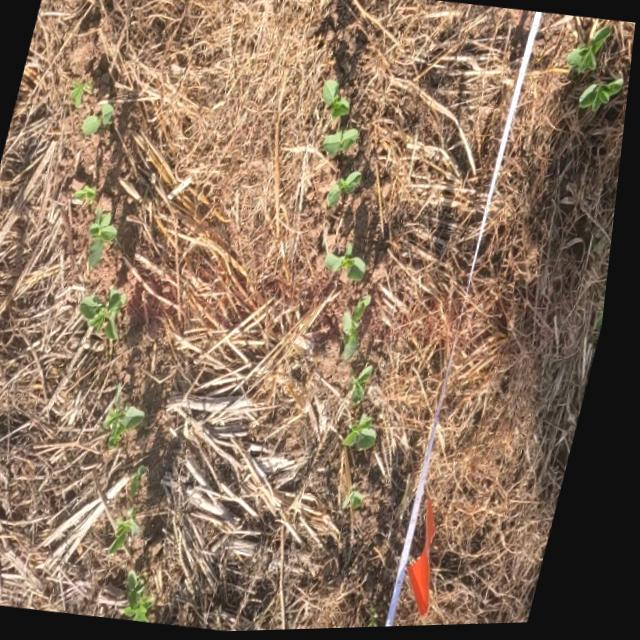soy_plant: (114, 386, 155, 449), (87, 290, 134, 341), (569, 31, 612, 76), (349, 298, 378, 362), (94, 209, 123, 270), (136, 573, 167, 623), (332, 247, 373, 284), (352, 415, 387, 453), (330, 173, 366, 209), (583, 83, 624, 114), (123, 511, 151, 553), (326, 126, 360, 160), (324, 82, 352, 123), (85, 102, 117, 136), (357, 368, 379, 410), (353, 488, 375, 513), (72, 83, 94, 107), (141, 467, 157, 499), (78, 186, 101, 206)
